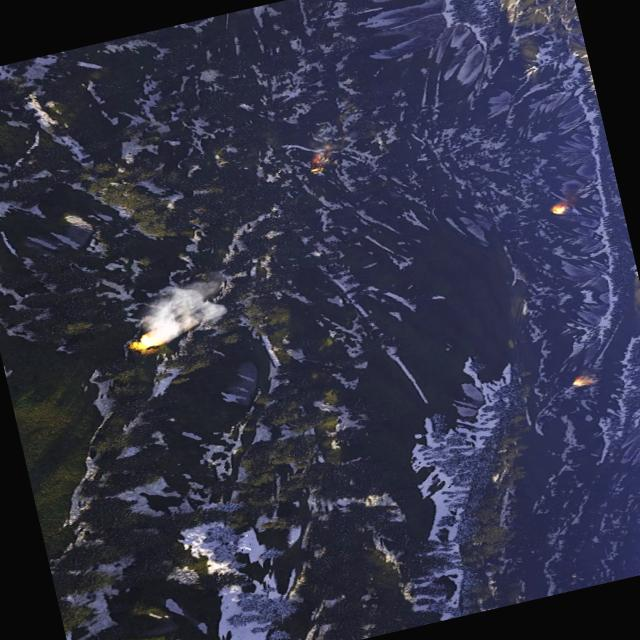fire: (304, 147, 338, 175), (129, 328, 164, 352), (554, 186, 581, 210), (570, 374, 590, 387), (549, 203, 567, 216)
smoke: (132, 273, 232, 348), (304, 122, 358, 162)
